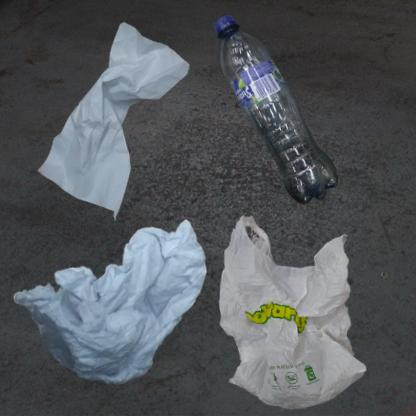bolsa: (213, 213, 377, 416)
botella: (213, 10, 341, 213)
papel: (10, 10, 226, 243), (10, 213, 209, 390)
